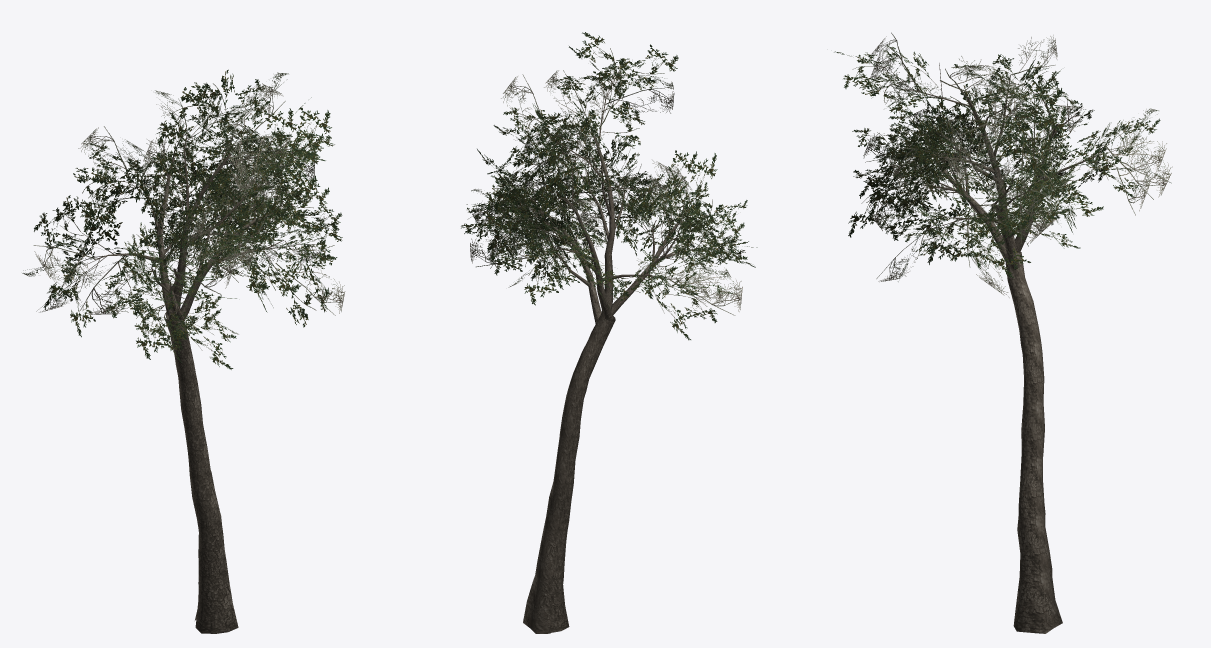
File: tree_v6_decid_gothic_tall_summer.glb
The picture shows the model from 3 angles, left to right: view 1: azimuth 30°, elevation 25°; view 2: azimuth 150°, elevation 25°; view 3: azimuth 270°, elevation 25°; orthographic projection. The views are drawn at different scales.
Visible parts, largest first — view 1: tree_v6_decid_gothic_tall_summer_LOD0; view 2: tree_v6_decid_gothic_tall_summer_LOD0; view 3: tree_v6_decid_gothic_tall_summer_LOD0.
Part boxes in pixels (bbox=[...]): tree_v6_decid_gothic_tall_summer_LOD0: bbox=[22, 69, 345, 633]; tree_v6_decid_gothic_tall_summer_LOD0: bbox=[461, 32, 757, 633]; tree_v6_decid_gothic_tall_summer_LOD0: bbox=[834, 32, 1172, 633].
Size of what is drawn, in the model's own units: 8.41 by 14.9 by 8.57.
1 material, 1 textured.
